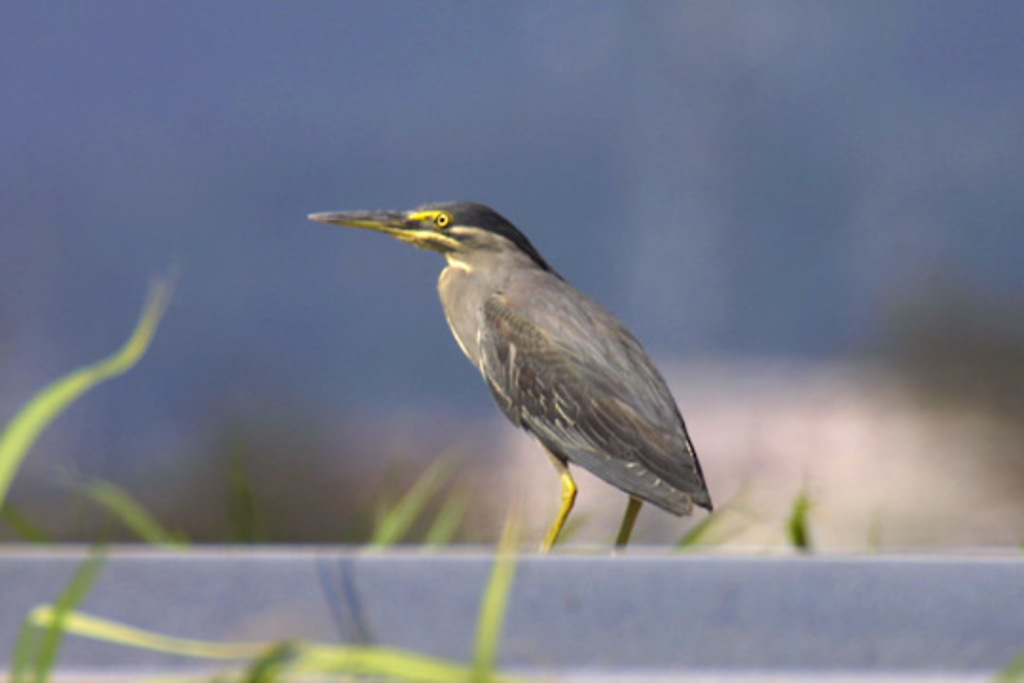Bird: (305, 199, 713, 558)
